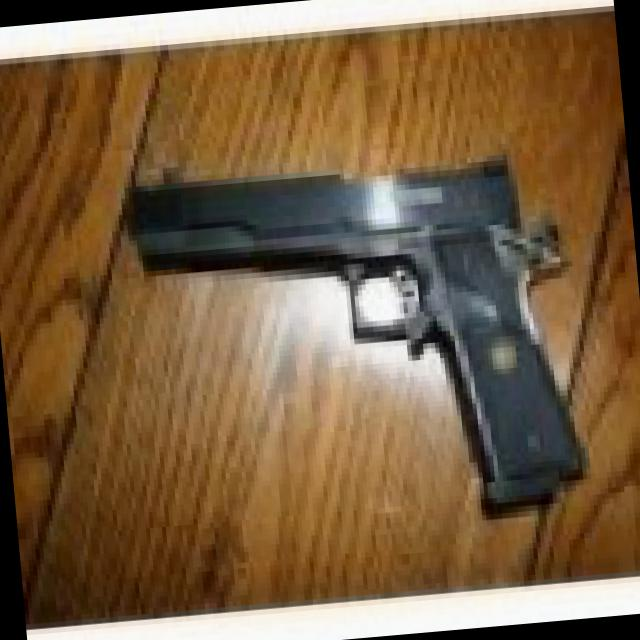handgun: (114, 128, 590, 550)
